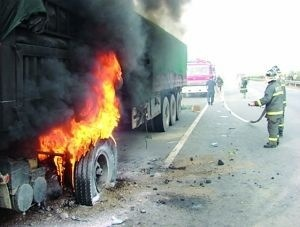fire: (38, 51, 122, 173)
